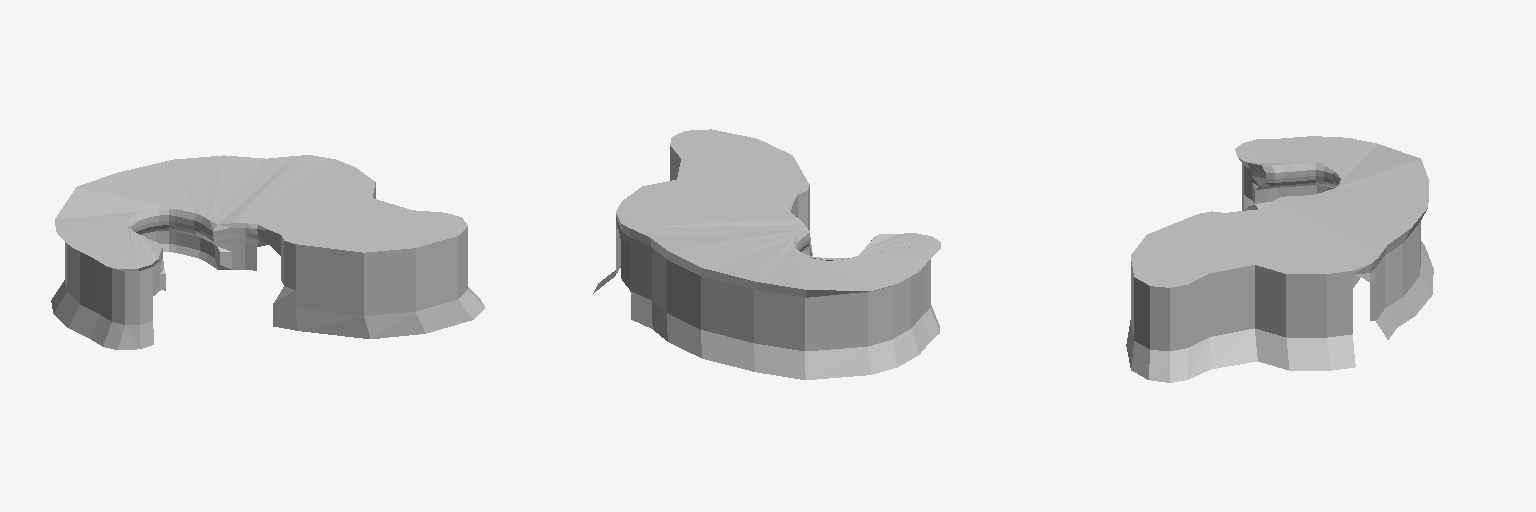
The model's file is walls.obj.
3 renders of one model, left to right at view 1: azimuth 30°, elevation 25°; view 2: azimuth 150°, elevation 25°; view 3: azimuth 270°, elevation 25°, orthographic.
Parts seen in each view (by area): view 1: Walls_Grid.006; view 2: Walls_Grid.006; view 3: Walls_Grid.006.
Boxes of the visible parts, <box> form: Walls_Grid.006: <box>51,155,485,349</box>; Walls_Grid.006: <box>593,129,940,379</box>; Walls_Grid.006: <box>1126,136,1433,382</box>.
Bounding box in the file's own units: 322 × 80.28 × 253.